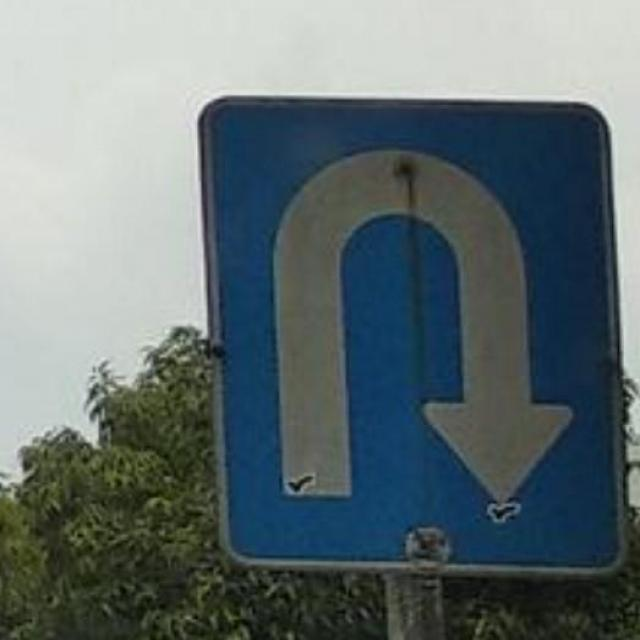traffic sign: (197, 98, 632, 576)
